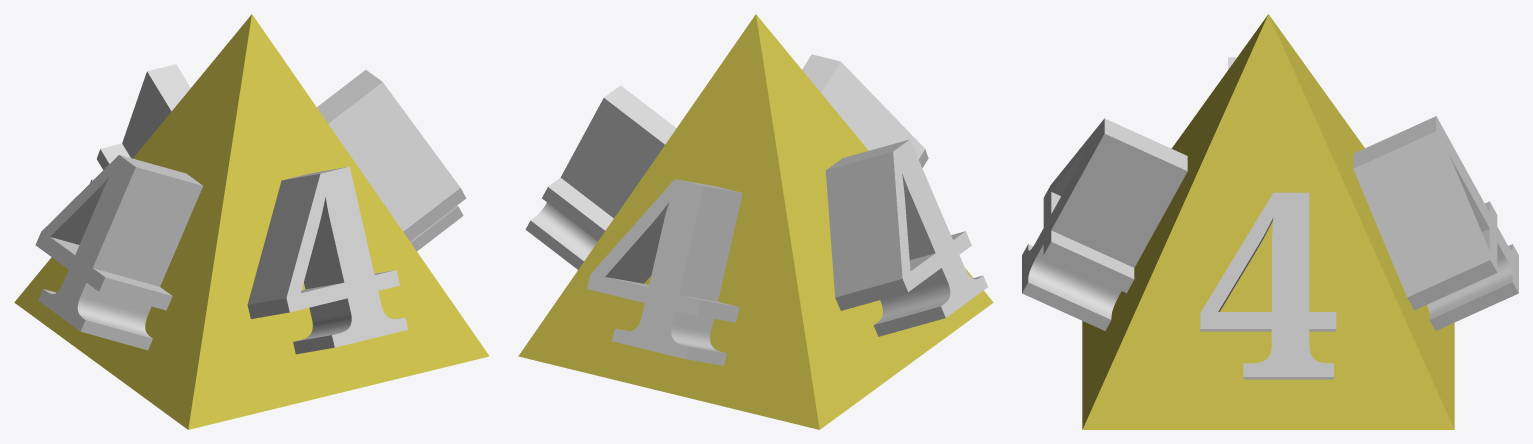
The model's file is number4.glb.
The picture shows the model from 3 angles, left to right: view 1: azimuth 30°, elevation 25°; view 2: azimuth 150°, elevation 25°; view 3: azimuth 270°, elevation 25°; orthographic projection. The views are drawn at different scales.
Parts seen in each view (by area): view 1: Mesh_Mesh_head_geo.001_lambert2SG.001; view 2: Mesh_Mesh_head_geo.001_lambert2SG.001; view 3: Mesh_Mesh_head_geo.001_lambert2SG.001.
Part boxes in pixels (box(x1,y1,x2,y2)): Mesh_Mesh_head_geo.001_lambert2SG.001: box(14, 14, 489, 429); Mesh_Mesh_head_geo.001_lambert2SG.001: box(518, 14, 993, 429); Mesh_Mesh_head_geo.001_lambert2SG.001: box(1022, 14, 1518, 429).
Bounding box in the file's own units: 53.3 × 40 × 53.39.
